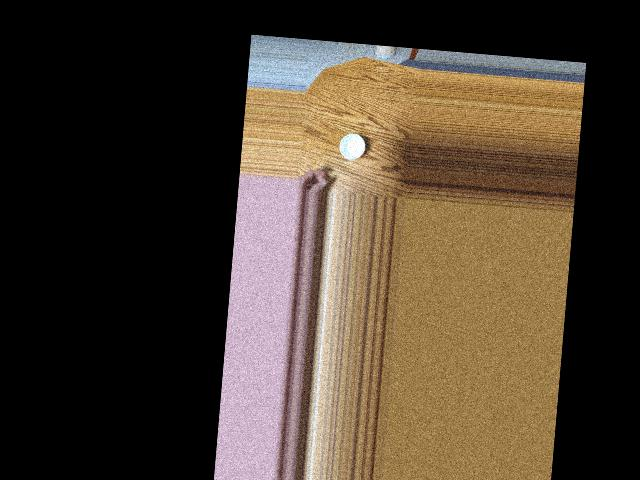cotage: (335, 130, 366, 165)
